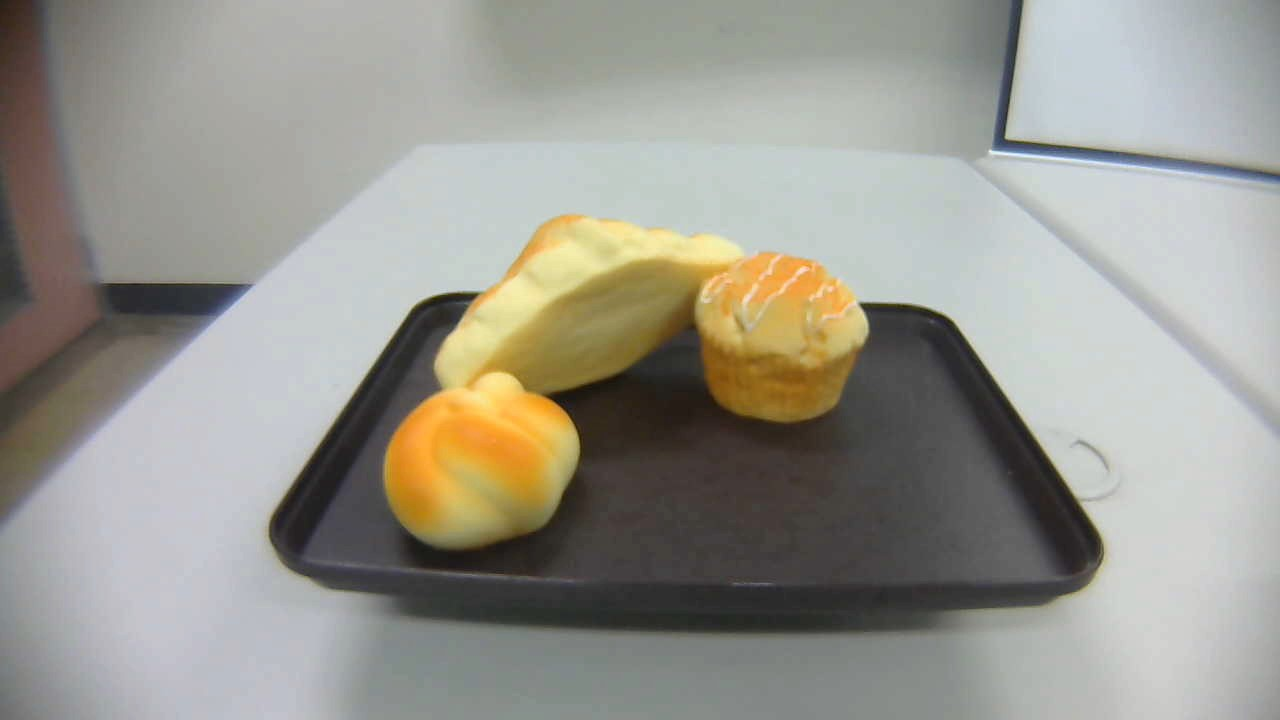croissant: (432, 214, 750, 401)
cupcake: (698, 250, 869, 422)
twist bread: (384, 369, 582, 550)
